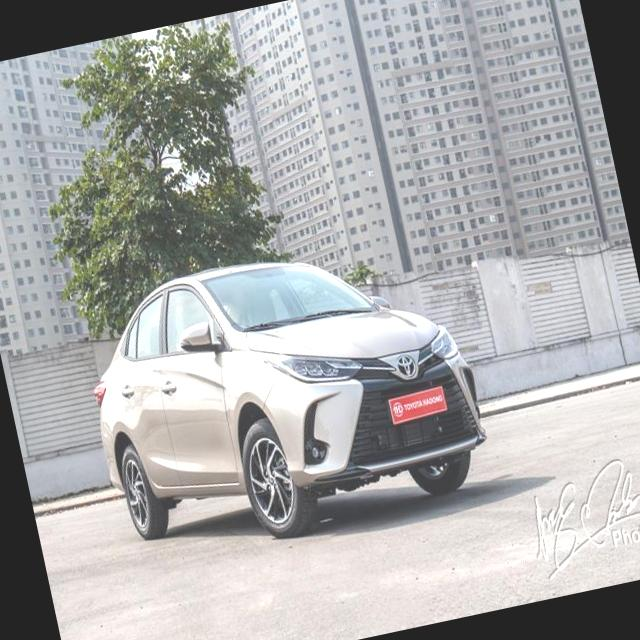ToyotaVios: (68, 216, 500, 572)
